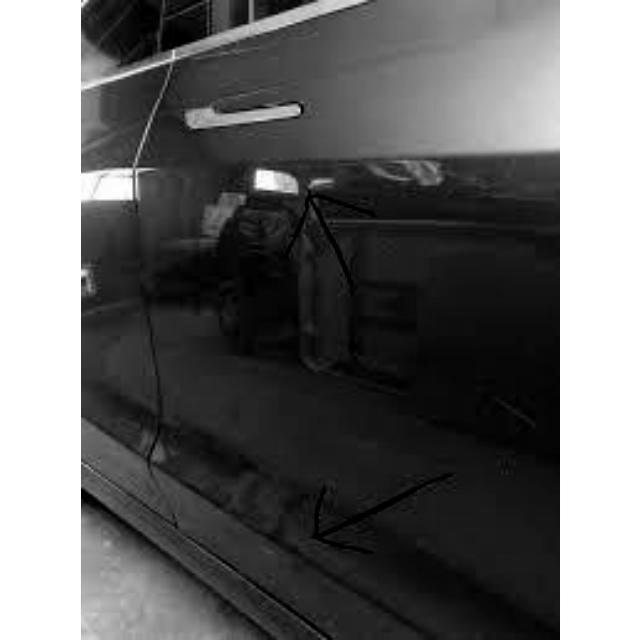doorouter-dent: (148, 58, 555, 611)
